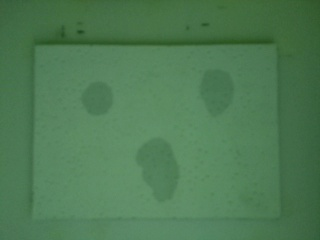Water_detected: (136, 146, 177, 192), (200, 75, 227, 113), (81, 85, 115, 115)
